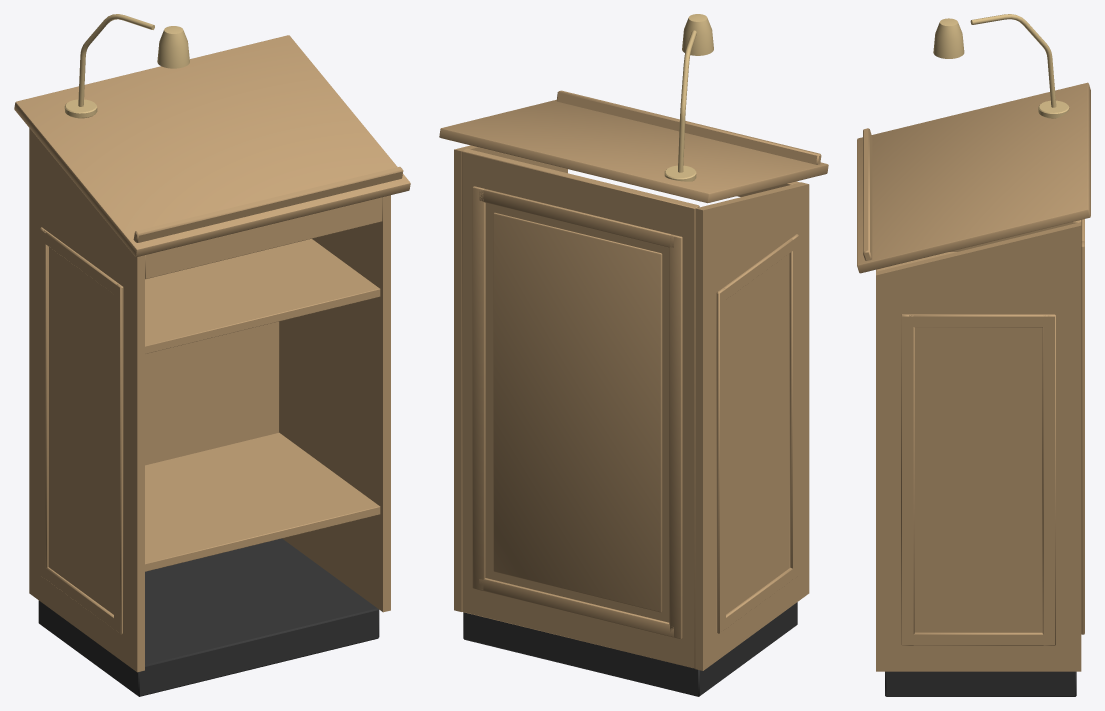
The model's file is Kit_Lectern_Oak.fbx.
3 renders of one model, left to right at view 1: azimuth 30°, elevation 25°; view 2: azimuth 150°, elevation 25°; view 3: azimuth 270°, elevation 25°, orthographic. The views are drawn at different scales.
Visible parts, largest first — view 1: Kit_Lectern_LOD0; view 2: Kit_Lectern_LOD0; view 3: Kit_Lectern_LOD0.
Part boxes in pixels (x1,y1,x2,y2): Kit_Lectern_LOD0: [14, 14, 410, 696]; Kit_Lectern_LOD0: [439, 14, 828, 696]; Kit_Lectern_LOD0: [857, 14, 1090, 696].
Size of what is drawn, in the model's own units: 0.66 by 1.44 by 0.5121.
